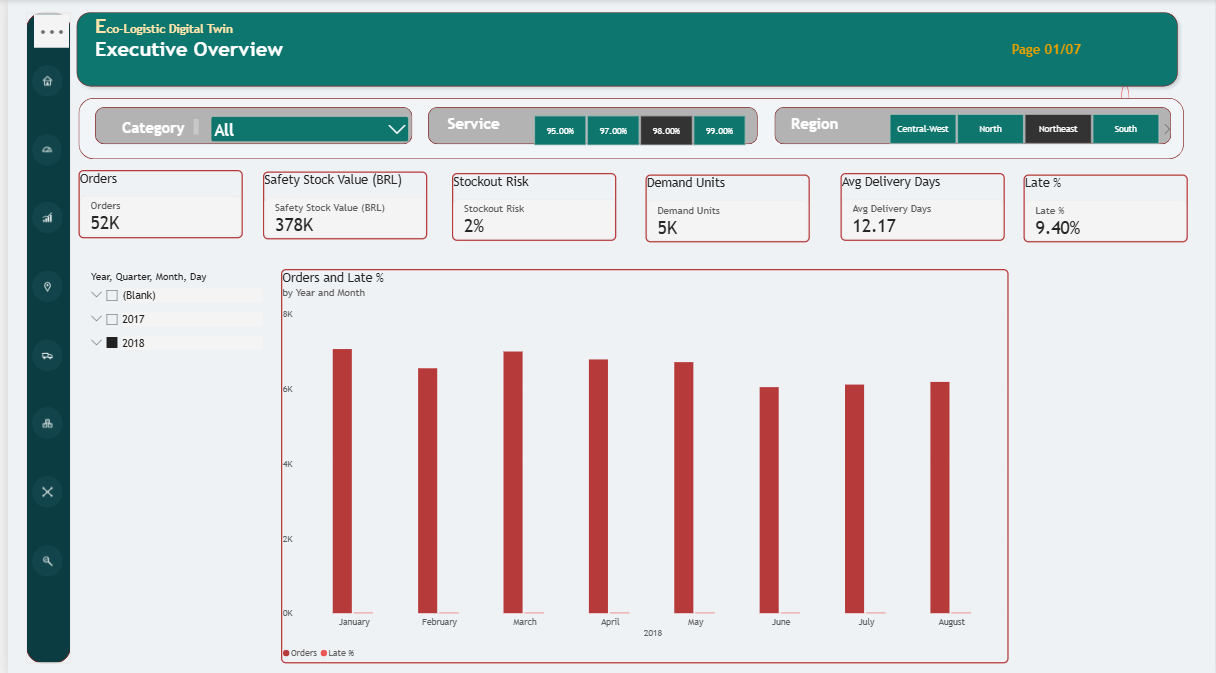

This screenshot's page, from the dashboard's own definition file:
{"tool":"powerbi","page":{"name":"Executive Overview","canvas":[1920,1080],"ordinal":1},"visuals":[{"type":"shape","box":[138.4,171.8,504.8,59.2],"z":0,"group":"g2"},{"type":"cardVisual","title":"Orders","fields":{"Data":["_Measures.Orders"]},"box":[112.1,272,261.1,108.3],"z":0},{"type":"shape","box":[668.4,171.8,524.4,59.2],"z":1000,"group":"g2"},{"type":"cardVisual","title":"Demand Units","fields":{"Data":["_Measures.Demand Units"]},"box":[1014,279.2,261,108],"z":1000},{"type":"shape","box":[1218.1,171.8,631,59.2],"z":2000,"group":"g2"},{"type":"cardVisual","title":"Avg Delivery Days","fields":{"Data":["_Measures.Avg Delivery Days"]},"box":[1324.2,276.8,261,108],"z":2000},{"type":"slicer","fields":{"Values":["demand_weekly.category"]},"box":[317.9,181.2,325.3,50.7],"z":3000,"group":"g2"},{"type":"cardVisual","title":"Late %","fields":{"Data":["_Measures.Late %"]},"box":[1615.3,279.2,261,108],"z":3000},{"type":"slicer","fields":{"Values":["demand_weekly.region"]},"box":[1380.8,181.2,468.3,50.7],"z":4000,"group":"g2"},{"type":"cardVisual","title":"Safety Stock Value (BRL)","fields":{"Data":["_Measures.Safety Stock Value (BRL)"]},"box":[405.6,274.4,261,108],"z":4000},{"type":"slicer","fields":{"Values":["inventory_policy.service_level"]},"box":[817.1,184,375.8,50.7],"z":5000,"group":"g2"},{"type":"cardVisual","title":"Stockout Risk","fields":{"Data":["_Measures.Stockout Risk"]},"box":[706.2,276.8,261,108],"z":5000},{"type":"textbox","box":[180.4,191.4,121.7,33.4],"z":6000,"group":"g2"},{"type":"lineClusteredColumnComboChart","fields":{"Category":["dim_date.date_id.Variation.Date Hierarchy.Year","dim_date.date_id.Variation.Date Hierarchy.Month"],"Y":["_Measures.Orders","_Measures.Late %"]},"box":[434.2,429.5,1157.2,627.5],"z":6000},{"type":"shape","box":[100,11.1,1769.4,136.1],"z":7000,"group":"g1"},{"type":"shape","box":[1519.4,66.7,263.9,69.4],"z":7000},{"type":"textbox","box":[699.3,184,137.4,107.1],"z":7000,"group":"g2"},{"type":"textbox","box":[138.9,22.2,1758.3,113.9],"z":8000,"group":"g1"},{"type":"shape","box":[1770,136.7,13.3,45],"z":8000},{"type":"textbox","box":[1246.1,184,420.7,107.1],"z":8000,"group":"g2"},{"type":"shape","box":[111.1,158.3,1758.3,97.2],"z":10000},{"type":"group","id":"g1","title":"Group 2","box":[100,11.1,1797.2,136.1],"z":11000},{"type":"group","id":"g2","title":"Group 3","box":[138.4,171.8,1710.7,119.3],"z":12000},{"type":"slicer","fields":{"Values":["dim_date.date_id.Variation.Date Hierarchy.Year","dim_date.date_id.Variation.Date Hierarchy.Quarter","dim_date.date_id.Variation.Date Hierarchy.Month","dim_date.date_id.Variation.Date Hierarchy.Day"]},"box":[124.1,431.9,281.5,178.9],"z":13000},{"type":"shape","box":[28.6,21.5,71.6,1035.5],"z":14000,"group":"g4"},{"type":"textbox","box":[1519.4,66.7,263.9,55.6],"z":16000,"group":"g1"},{"type":"actionButton","box":[38.8,104.6,48.9,50.5],"z":17000,"group":"g3"},{"type":"actionButton","box":[38.8,867.3,48.9,50.5],"z":21000,"group":"g3"},{"type":"actionButton","box":[38.8,758.4,48.9,50.5],"z":22000,"group":"g3"},{"type":"actionButton","box":[38.7,649.2,49.2,50.8],"z":23000,"group":"g3"},{"type":"actionButton","box":[38.8,540.4,48.9,50.5],"z":24000,"group":"g3"},{"type":"actionButton","box":[38.8,322.6,48.9,50.5],"z":25000,"group":"g3"},{"type":"actionButton","box":[38.8,431.5,48.9,50.5],"z":26000,"group":"g3"},{"type":"actionButton","box":[39.6,213.5,47.4,50.8],"z":27000,"group":"g3"},{"type":"group","id":"g3","title":"Group 1","box":[38.7,104.6,49.2,813.2],"z":27001,"group":"g4"},{"type":"group","id":"g4","title":"Group 4","box":[28.6,21.5,71.6,1035.5],"z":27002}]}

Visuals, with their boxes on the page's 1920x1080 design canvas (x1, y1, x2, y2). These are canvas units, not pixel positions in the 1216x673 screenshot, which may show the page scaled, cropped or inside an application window:
shape: (138,172,643,231)
"Orders" cardVisual: (112,272,373,380)
shape: (668,172,1193,231)
"Demand Units" cardVisual: (1014,279,1275,387)
shape: (1218,172,1849,231)
"Avg Delivery Days" cardVisual: (1324,277,1585,385)
slicer - demand_weekly.category: (318,181,643,232)
"Late %" cardVisual: (1615,279,1876,387)
slicer - demand_weekly.region: (1381,181,1849,232)
"Safety Stock Value (BRL)" cardVisual: (406,274,667,382)
slicer - inventory_policy.service_level: (817,184,1193,235)
"Stockout Risk" cardVisual: (706,277,967,385)
textbox: (180,191,302,225)
lineClusteredColumnComboChart - dim_date.date_id.Variation.Date Hierarchy.Year x dim_date.date_id.Variation.Date Hierarchy.Month: (434,430,1591,1057)
shape: (100,11,1869,147)
shape: (1519,67,1783,136)
textbox: (699,184,837,291)
textbox: (139,22,1897,136)
shape: (1770,137,1783,182)
textbox: (1246,184,1667,291)
shape: (111,158,1869,256)
"Group 2" group: (100,11,1897,147)
"Group 3" group: (138,172,1849,291)
slicer - dim_date.date_id.Variation.Date Hierarchy.Year x dim_date.date_id.Variation.Date Hierarchy.Quarter: (124,432,406,611)
shape: (29,22,100,1057)
textbox: (1519,67,1783,122)
actionButton: (39,105,88,155)
actionButton: (39,867,88,918)
actionButton: (39,758,88,809)
actionButton: (39,649,88,700)
actionButton: (39,540,88,591)
actionButton: (39,323,88,373)
actionButton: (39,432,88,482)
actionButton: (40,214,87,264)
"Group 1" group: (39,105,88,918)
"Group 4" group: (29,22,100,1057)
